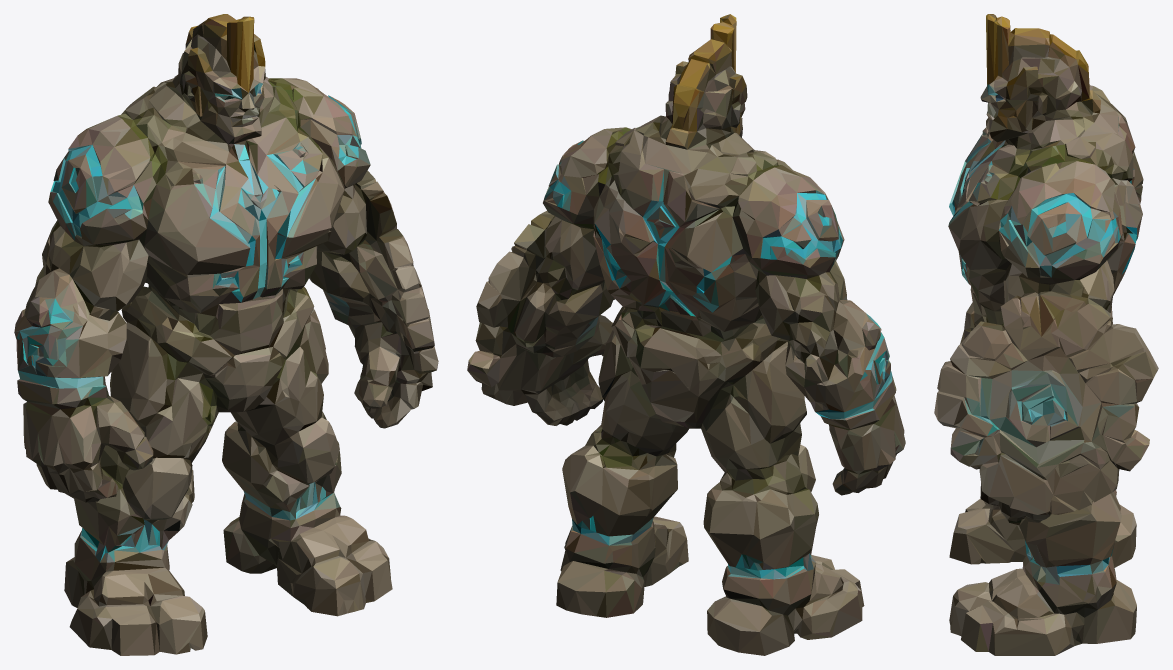
The model's file is temple-guardian.glb.
3 views of the same model, side by side, from view 1: azimuth 30°, elevation 25°; view 2: azimuth 150°, elevation 25°; view 3: azimuth 270°, elevation 25° (orthographic). The views are drawn at different scales.
Visible parts, largest first — view 1: tripo_node_9a7de5a5-57da-4877-8786-5f90ba21bece; view 2: tripo_node_9a7de5a5-57da-4877-8786-5f90ba21bece; view 3: tripo_node_9a7de5a5-57da-4877-8786-5f90ba21bece.
Part boxes in pixels (bbox=[...]): tripo_node_9a7de5a5-57da-4877-8786-5f90ba21bece: bbox=[14, 14, 438, 655]; tripo_node_9a7de5a5-57da-4877-8786-5f90ba21bece: bbox=[467, 14, 905, 655]; tripo_node_9a7de5a5-57da-4877-8786-5f90ba21bece: bbox=[934, 14, 1158, 655].
Size of the model in its own units: 1.58 by 2.3 by 0.815.
